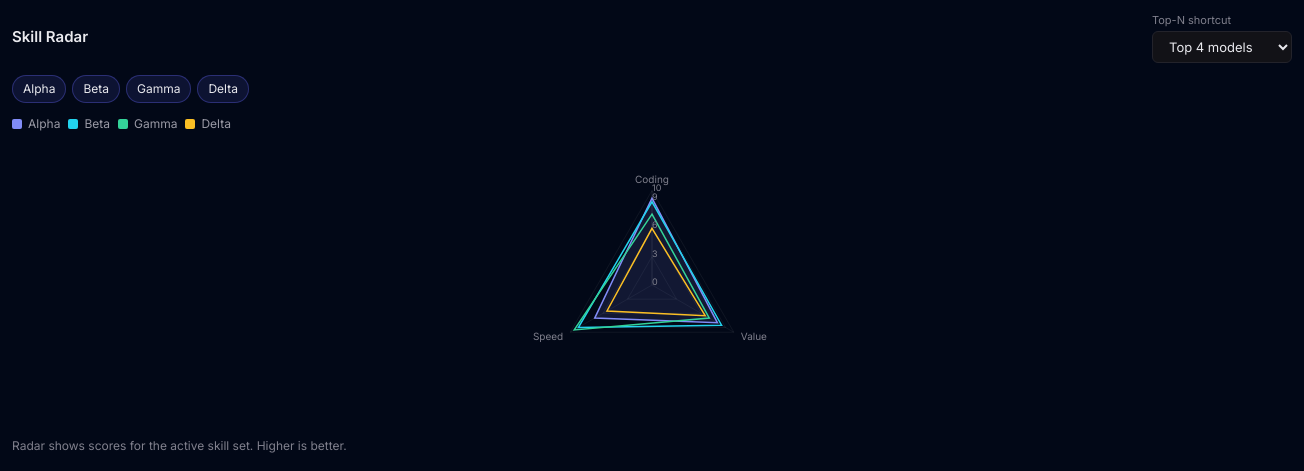
Test: SkillRadar › top-N shortcut selects that many series
Select "Top 2 models" in the dropdown with test id "radar-topn": (1222, 46) [1152, 30, 1292, 62]
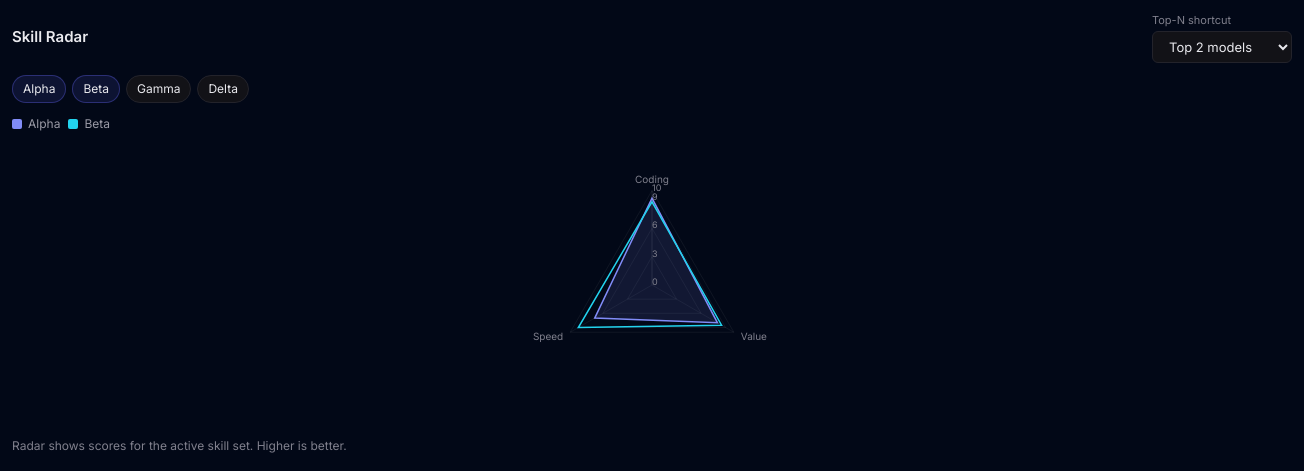
Expected: the element with test id "radar-series-m1" is shown, [12, 114, 60, 132]
Now the element with test id "radar-series-m3" is gone
